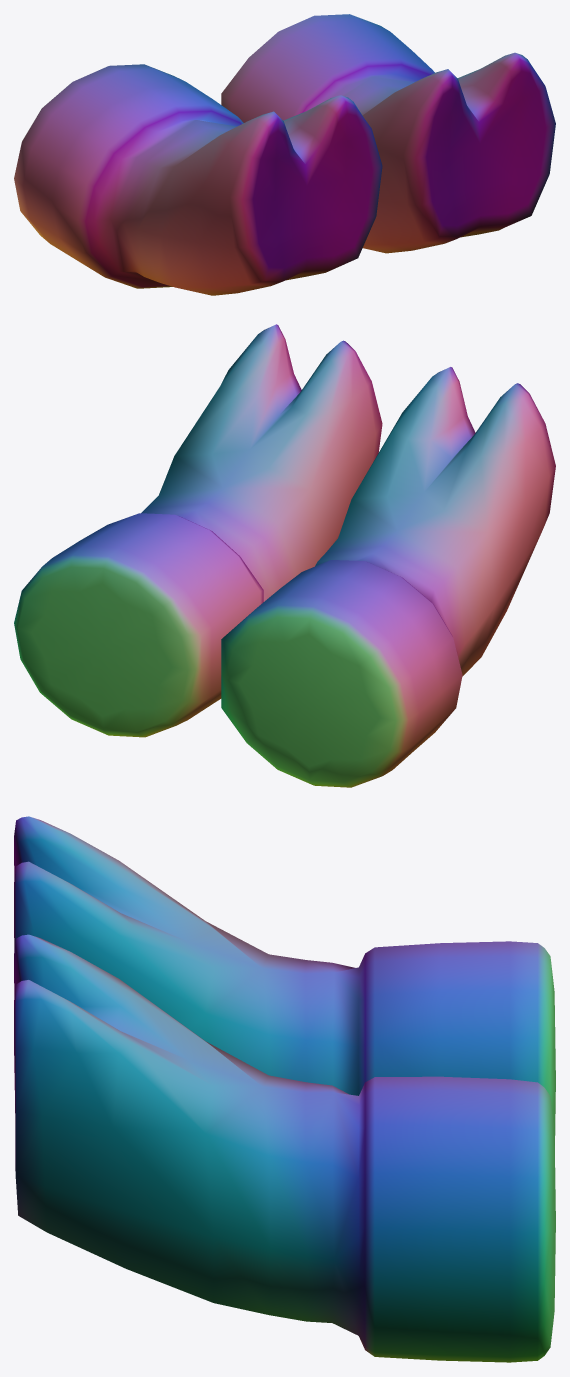
Rendered from hoof.fbx.
3 renders of one model, top to bottom at view 1: azimuth 30°, elevation 25°; view 2: azimuth 150°, elevation 25°; view 3: azimuth 270°, elevation 25°, orthographic. The views are drawn at different scales.
Visible parts, largest first — view 1: hoofRight, hoofLeft; view 2: hoofRight, hoofLeft; view 3: hoofLeft, hoofRight.
Boxes of the visible parts, x1,y1,x2,y2 form: hoofRight: (14, 64, 382, 295); hoofLeft: (221, 14, 555, 253); hoofRight: (221, 367, 555, 787); hoofLeft: (14, 324, 382, 737); hoofLeft: (14, 934, 555, 1362); hoofRight: (14, 816, 555, 1145).
Bounding box in the file's own units: 313 × 207 × 267.
